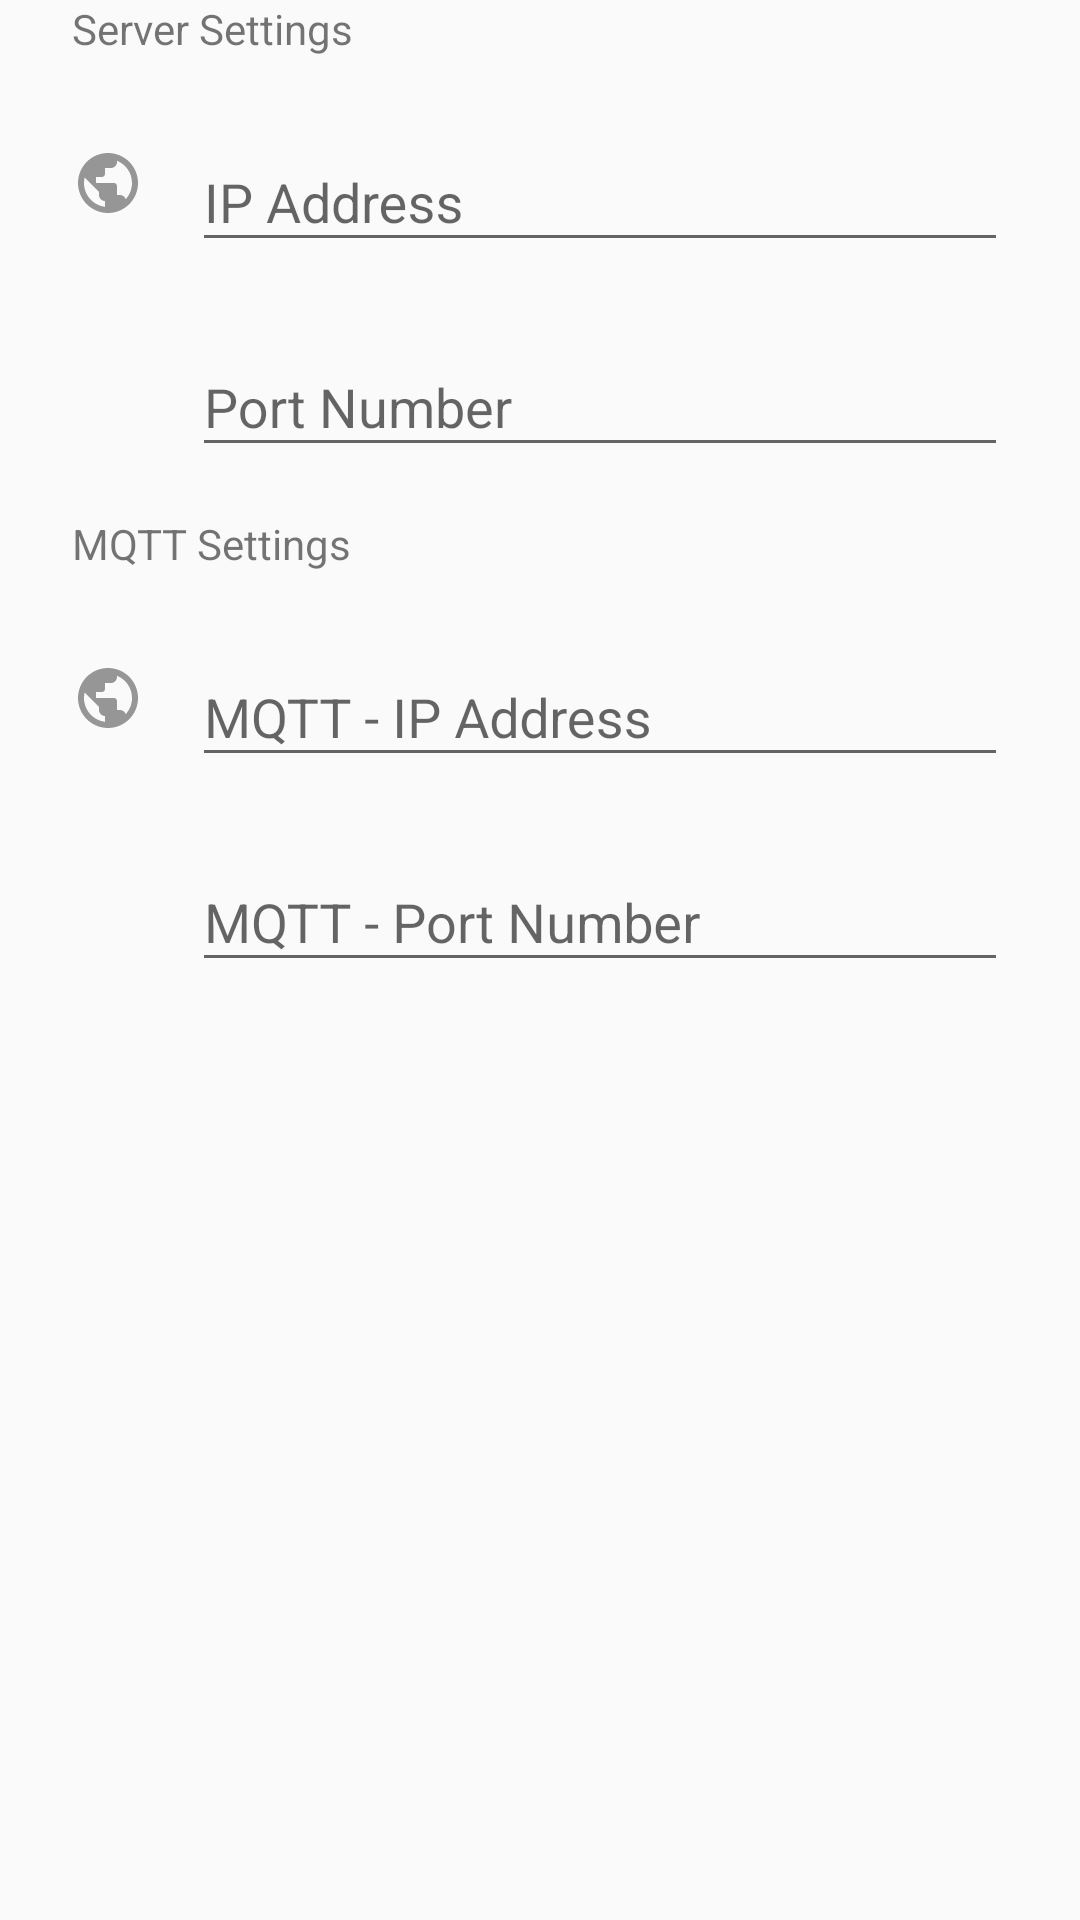

Where to tap for icons on this 1080x1920 app screen, as (x,y):
internet: (108,183), (108,698)
